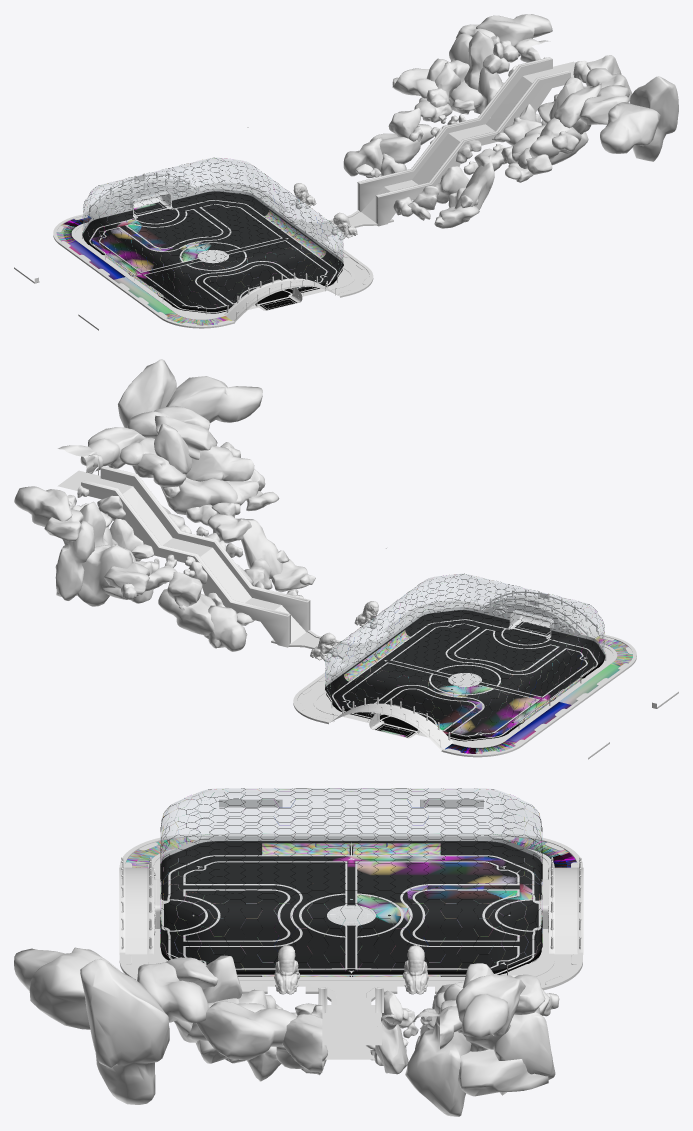
The model's file is ForbiddenTemple_Field_WhiteModel.glb.
3 views of the same model, one above another, from view 1: azimuth 30°, elevation 25°; view 2: azimuth 150°, elevation 25°; view 3: azimuth 270°, elevation 25° (orthographic). The views are drawn at different scales.
Visible parts, largest first — view 1: FNI_CBNRocks_03_13_0, Grass_Base_84_0, FNI_CBNRocks_02_18_0, CHN_FF_Goal_38_0, FF_Roof_32_0, FF_Roof_31_0, FF_Roof_33_0, FF_Roof_30_0, CHN_FF_Goal_39_0, FNI_StaircaseWalls_01_20_0, FNI_StaircaseWalls_01_19_0, CHN_WaterfallStaircase01_16_0 (+22 smaller); view 2: FNI_CBNRocks_03_13_0, Grass_Base_84_0, FNI_CBNRocks_02_18_0, CHN_FF_Goal_37_0, FF_Roof_33_0, FF_Roof_30_0, FF_Roof_32_0, FF_Roof_31_0, CHN_FF_Goal_36_0, FNI_StaircaseWalls_01_19_0, FNI_StaircaseWalls_01_20_0, CHN_WaterfallStaircase01_16_0 (+20 smaller); view 3: Grass_Base_84_0, FNI_CBNRocks_03_13_0, FNI_CBNRocks_02_18_0, FF_Roof_30_0, FF_Roof_31_0, CHN_FF_Side_41_0, CHN_FF_Side_40_0, FF_Roof_32_0, FF_Roof_33_0, CHN_FF_Goal_36_0, CHN_FF_Goal_39_0, CHN_WaterfallStaircase01_16_1 (+30 smaller).
Boxes of the visible parts, bbox=[...] form: FNI_CBNRocks_03_13_0: bbox=[393, 55, 678, 228]; Grass_Base_84_0: bbox=[90, 200, 335, 312]; FNI_CBNRocks_02_18_0: bbox=[343, 14, 552, 178]; CHN_FF_Goal_38_0: bbox=[172, 253, 273, 308]; FF_Roof_32_0: bbox=[140, 213, 265, 265]; FF_Roof_31_0: bbox=[214, 195, 330, 251]; FF_Roof_33_0: bbox=[96, 173, 211, 229]; FF_Roof_30_0: bbox=[159, 159, 285, 211]; CHN_FF_Goal_39_0: bbox=[270, 226, 342, 288]; FNI_StaircaseWalls_01_20_0: bbox=[375, 71, 570, 226]; FNI_StaircaseWalls_01_19_0: bbox=[357, 58, 552, 211]; CHN_WaterfallStaircase01_16_0: bbox=[361, 76, 532, 225]; FNI_CBNRocks_03_13_0: bbox=[58, 359, 315, 598]; Grass_Base_84_0: bbox=[333, 620, 596, 739]; FNI_CBNRocks_02_18_0: bbox=[14, 485, 254, 651]; CHN_FF_Goal_37_0: bbox=[400, 676, 509, 736]; FF_Roof_33_0: bbox=[407, 633, 542, 689]; FF_Roof_30_0: bbox=[339, 614, 463, 674]; FF_Roof_32_0: bbox=[466, 590, 590, 650]; FF_Roof_31_0: bbox=[387, 575, 522, 631]; CHN_FF_Goal_36_0: bbox=[325, 647, 404, 714]; FNI_StaircaseWalls_01_19_0: bbox=[81, 481, 290, 647]; FNI_StaircaseWalls_01_20_0: bbox=[100, 467, 310, 632]; CHN_WaterfallStaircase01_16_0: bbox=[122, 486, 305, 643]; Grass_Base_84_0: bbox=[164, 856, 538, 974]; FNI_CBNRocks_03_13_0: bbox=[14, 947, 327, 1104]; FNI_CBNRocks_02_18_0: bbox=[366, 963, 559, 1116]; FF_Roof_30_0: bbox=[352, 847, 521, 901]; FF_Roof_31_0: bbox=[181, 847, 350, 901]; CHN_FF_Side_41_0: bbox=[352, 903, 483, 970]; CHN_FF_Side_40_0: bbox=[219, 903, 350, 970]; FF_Roof_32_0: bbox=[181, 791, 350, 845]; FF_Roof_33_0: bbox=[352, 791, 521, 845]; CHN_FF_Goal_36_0: bbox=[485, 847, 540, 970]; CHN_FF_Goal_39_0: bbox=[161, 847, 217, 963]; CHN_WaterfallStaircase01_16_1: bbox=[322, 1005, 381, 1059].
Size of the model in its own units: 268 by 71.95 by 179.
